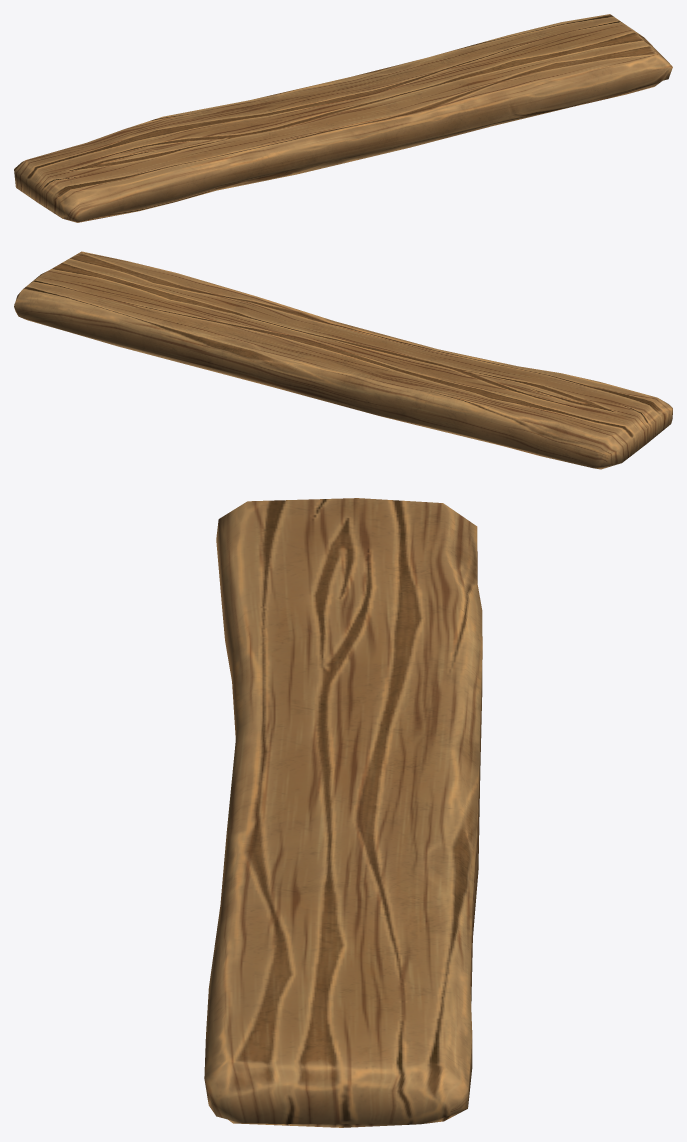
The model's file is SM_Planks_01.fbx.
3 views of the same model, one above another, from view 1: azimuth 30°, elevation 25°; view 2: azimuth 150°, elevation 25°; view 3: azimuth 270°, elevation 25° (orthographic). The views are drawn at different scales.
Visible parts, largest first — view 1: SM_Planks_01; view 2: SM_Planks_01; view 3: SM_Planks_01.
Part boxes in pixels (left/top/right/bottom): SM_Planks_01: left=14, top=14, right=672, bottom=222; SM_Planks_01: left=14, top=251, right=672, bottom=469; SM_Planks_01: left=204, top=498, right=482, bottom=1127.
Bounding box in the file's own units: 598 × 37.55 × 119.
Materials: 1 (1 with a texture image).
